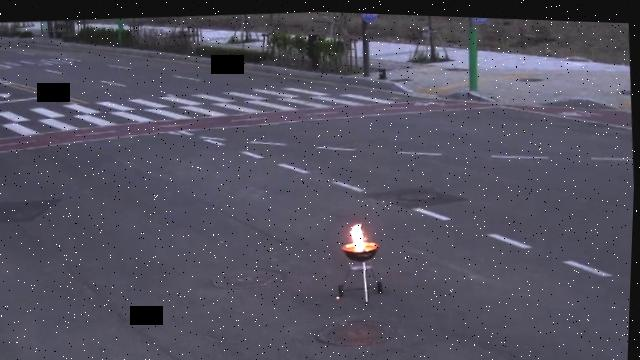fire: (350, 219, 369, 250)
